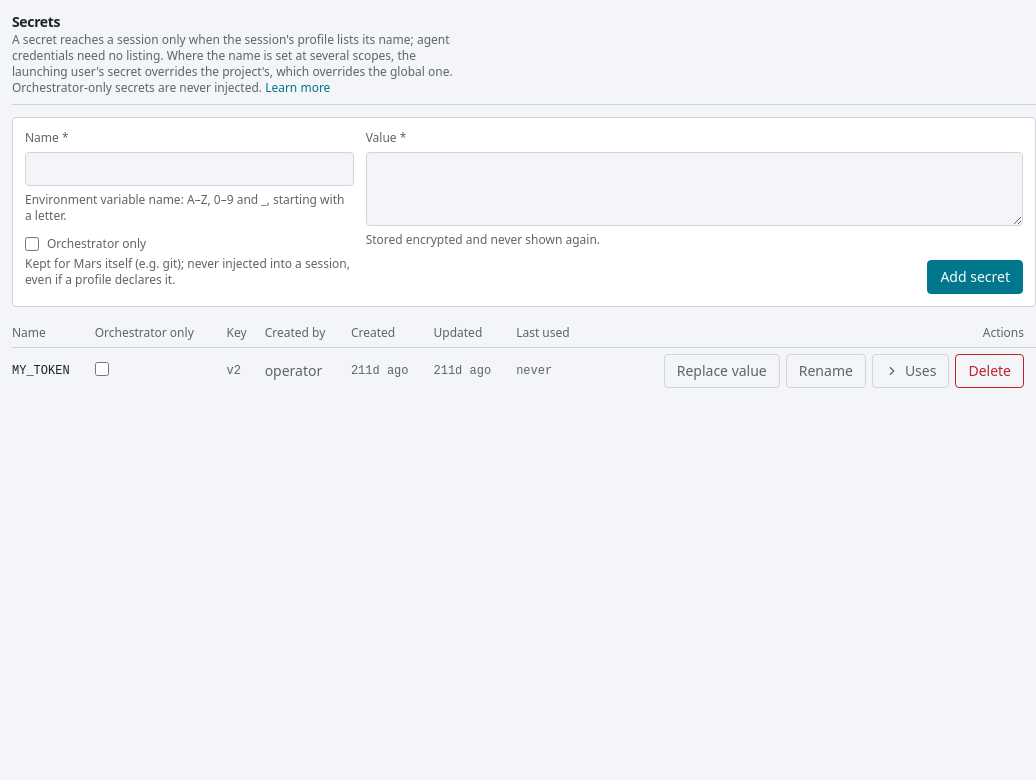
it: SecretsManager › shows the agent-credential 409 of a rename too
This screenshot has width=1036, height=780.
Click the button "Rename" at (826, 371), box [786,354,866,388]
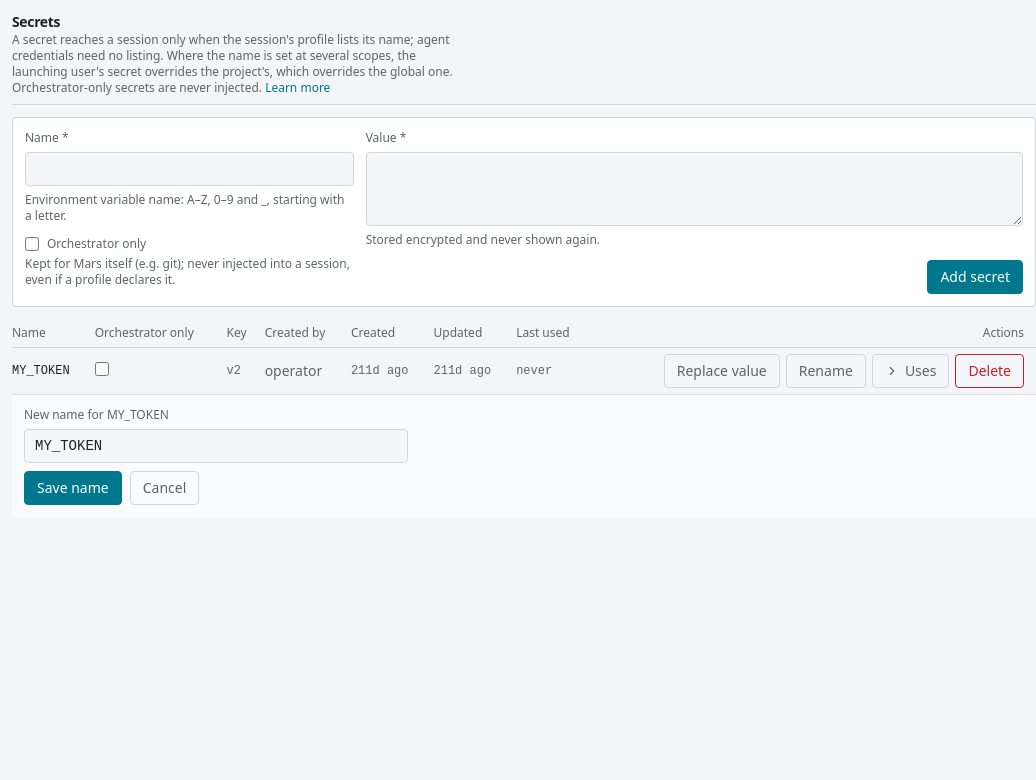
Replace the text in the field labelled "New name for MY_TOKEN" with "ANTHROPIC_API_KEY" at (216, 446), box [24,429,408,463]
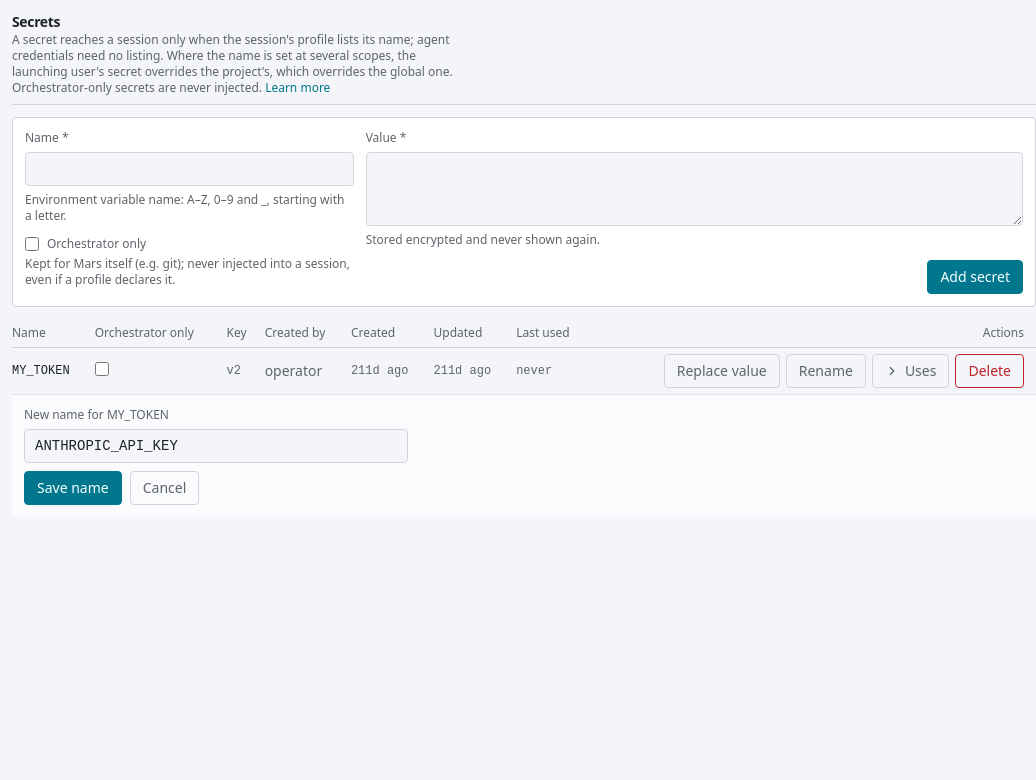
Click the button "Save name" at (73, 488), box [24,471,122,505]
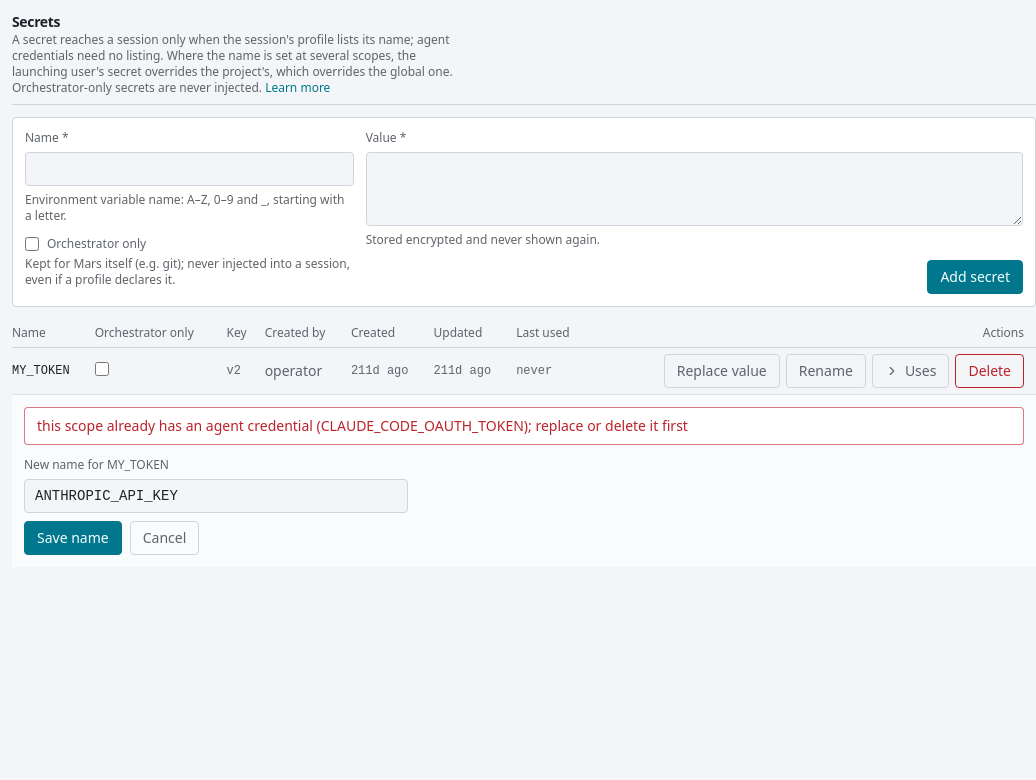
Expected: the text "this scope already has an agent credential (CLAUDE_CODE_OAUTH_TOKEN); replace or delete it first" is shown, [37,416,688,435]
